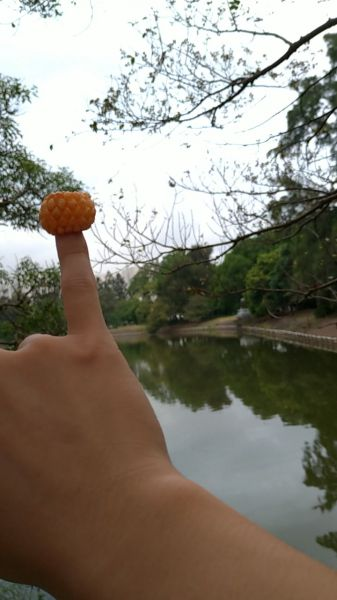eggs: (38, 191, 96, 234)
